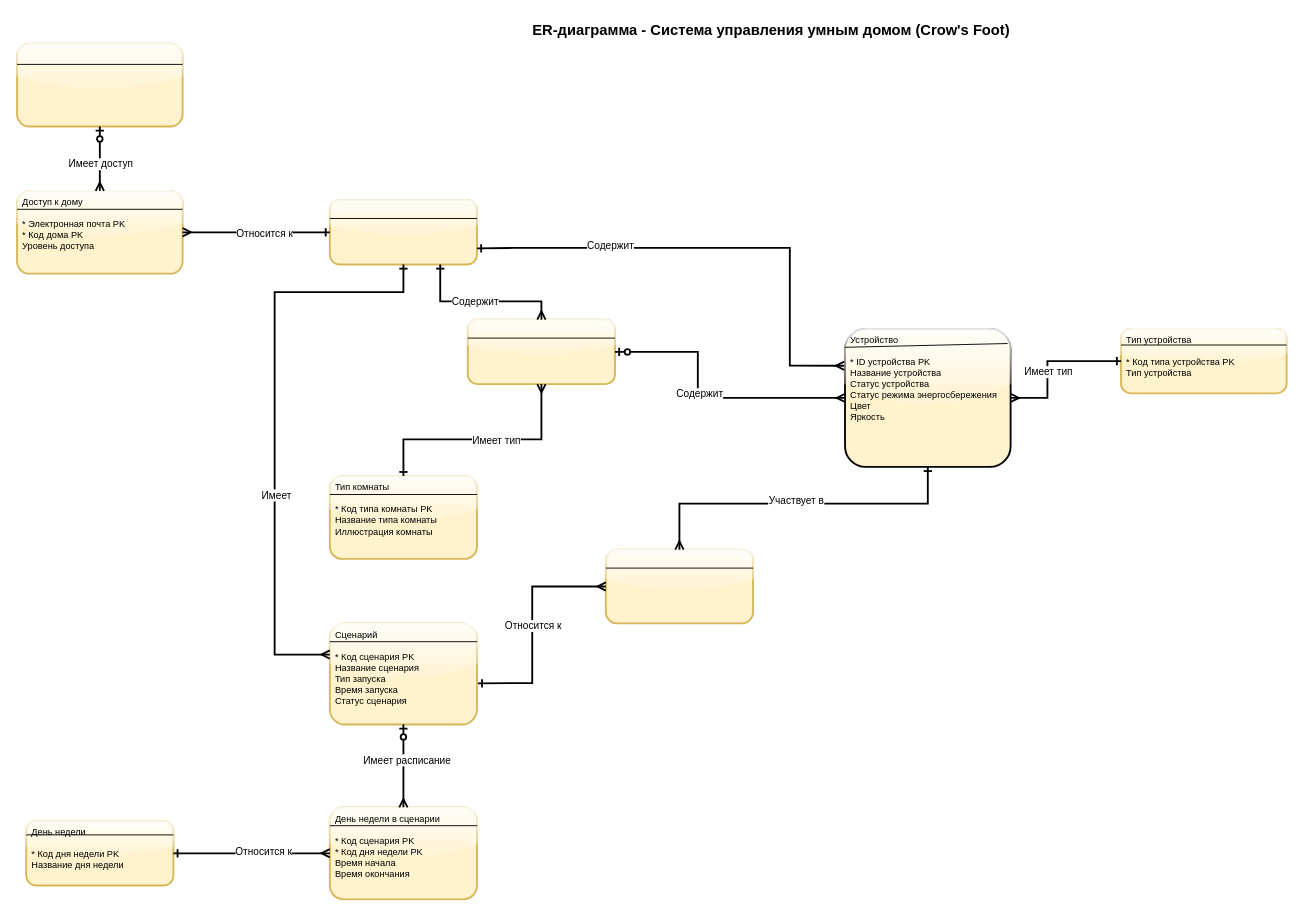
This 1304x915 diagram has some shape labels left out. The shapes that lost their labels are listed below. From the top down, each one's centre as x and y in pixels, then its label:
(x=99, y=84): Пользователь * Электронная почта PK Имя пользователя Пароль пользователя
(x=402, y=232): Дом * Код дома PK Название дома
(x=540, y=351): Комната * Код комнаты PK Название комнаты
(x=678, y=586): Сценарий устройства * Код сценария PK * ID устройства PK Статус устройства
